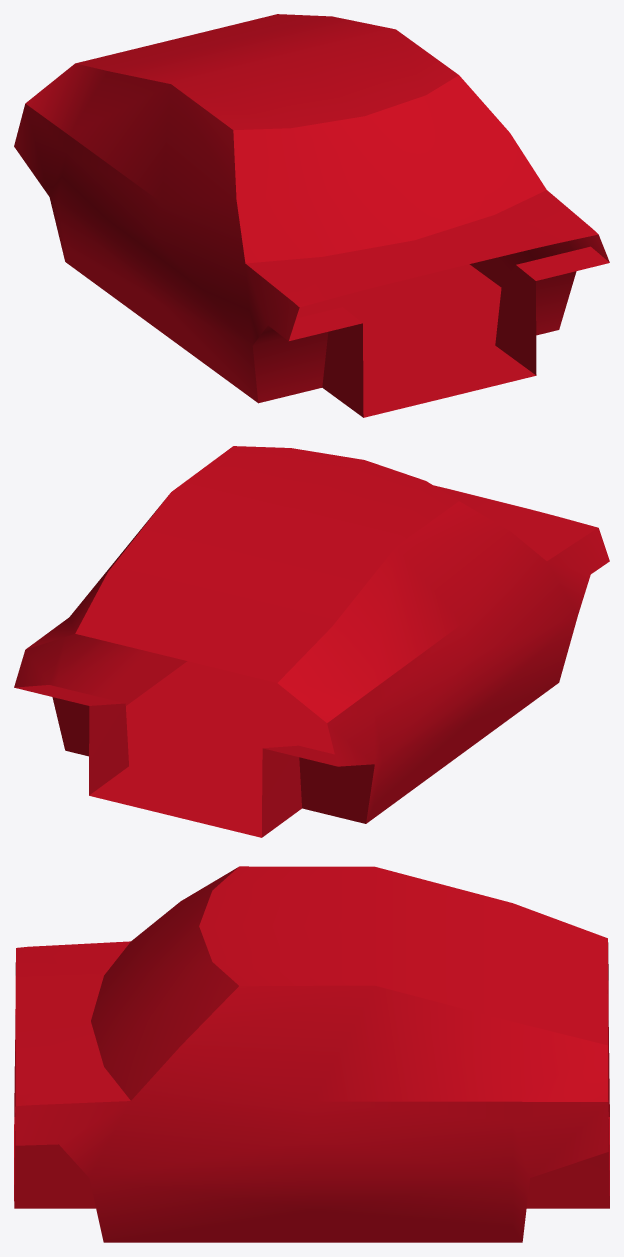
The model's file is template_car_coupe_middle.dae.
3 renders of one model, top to bottom at view 1: azimuth 30°, elevation 25°; view 2: azimuth 150°, elevation 25°; view 3: azimuth 270°, elevation 25°, orthographic. The views are drawn at different scales.
Visible parts, largest first — view 1: template_car_coupe_middle; view 2: template_car_coupe_middle; view 3: template_car_coupe_middle.
Boxes of the visible parts, <box> form: template_car_coupe_middle: <box>14,14,609,417</box>; template_car_coupe_middle: <box>14,446,609,837</box>; template_car_coupe_middle: <box>14,866,609,1242</box>.
Bounding box in the file's own units: 1.72 × 2.51 × 1.1.
